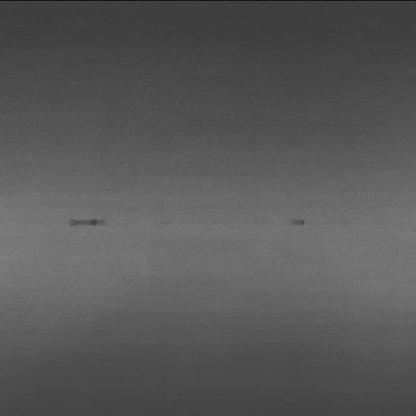oil_spot: (61, 212, 116, 235), (278, 214, 323, 231)
